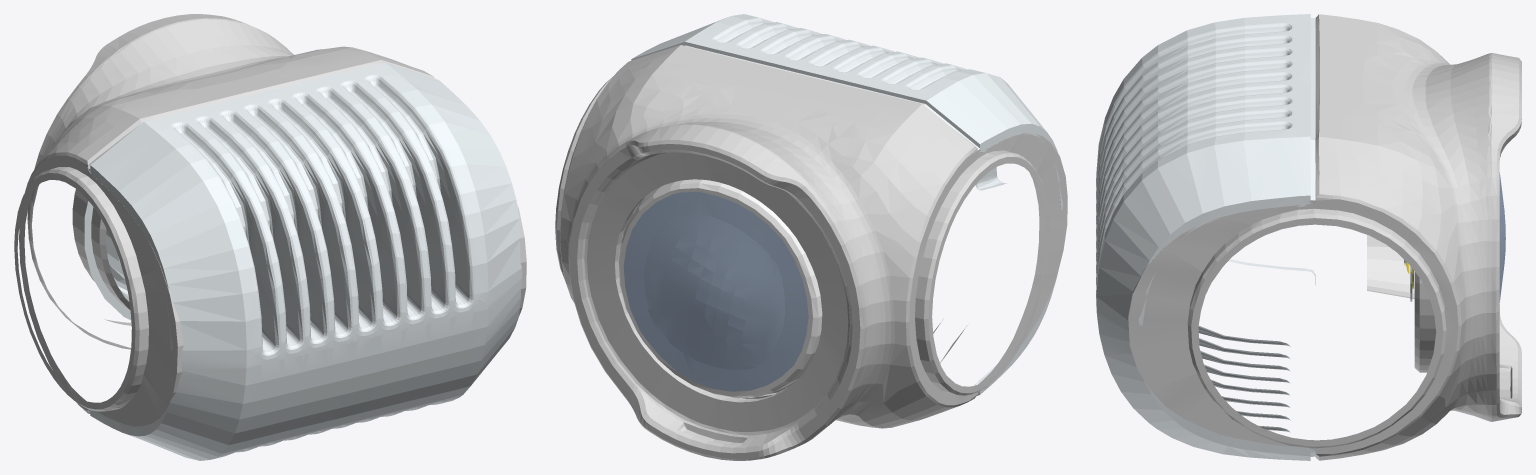
The model's file is DroneCamera.glb.
The picture shows the model from 3 angles, left to right: view 1: azimuth 30°, elevation 25°; view 2: azimuth 150°, elevation 25°; view 3: azimuth 270°, elevation 25°; orthographic projection. The views are drawn at different scales.
Parts seen in each view (by area): view 1: DJI_avata2 3D model.040, DJI_avata2 3D model.153, DJI_avata2 3D model.034, DJI_avata2 3D model.133; view 2: DJI_avata2 3D model.153, DJI_avata2 3D model.177, DJI_avata2 3D model.040, DJI_avata2 3D model.043; view 3: DJI_avata2 3D model.153, DJI_avata2 3D model.040, DJI_avata2 3D model.060, DJI_avata2 3D model.034, DJI_avata2 3D model.177.
Part boxes in pixels (x1,y1,x2,y2): DJI_avata2 3D model.040: (88,62,522,460); DJI_avata2 3D model.153: (14,14,526,426); DJI_avata2 3D model.034: (72,189,130,310); DJI_avata2 3D model.133: (84,201,131,320); DJI_avata2 3D model.153: (555,45,1067,460); DJI_avata2 3D model.177: (623,192,808,391); DJI_avata2 3D model.040: (631,14,1062,395); DJI_avata2 3D model.043: (618,179,822,398); DJI_avata2 3D model.153: (1128,14,1521,460); DJI_avata2 3D model.040: (1096,14,1315,460); DJI_avata2 3D model.060: (1367,235,1414,298); DJI_avata2 3D model.034: (1414,272,1436,372); DJI_avata2 3D model.177: (1499,172,1505,302).
Bounding box in the file's own units: 0.0278 × 0.0231 × 0.0264.
